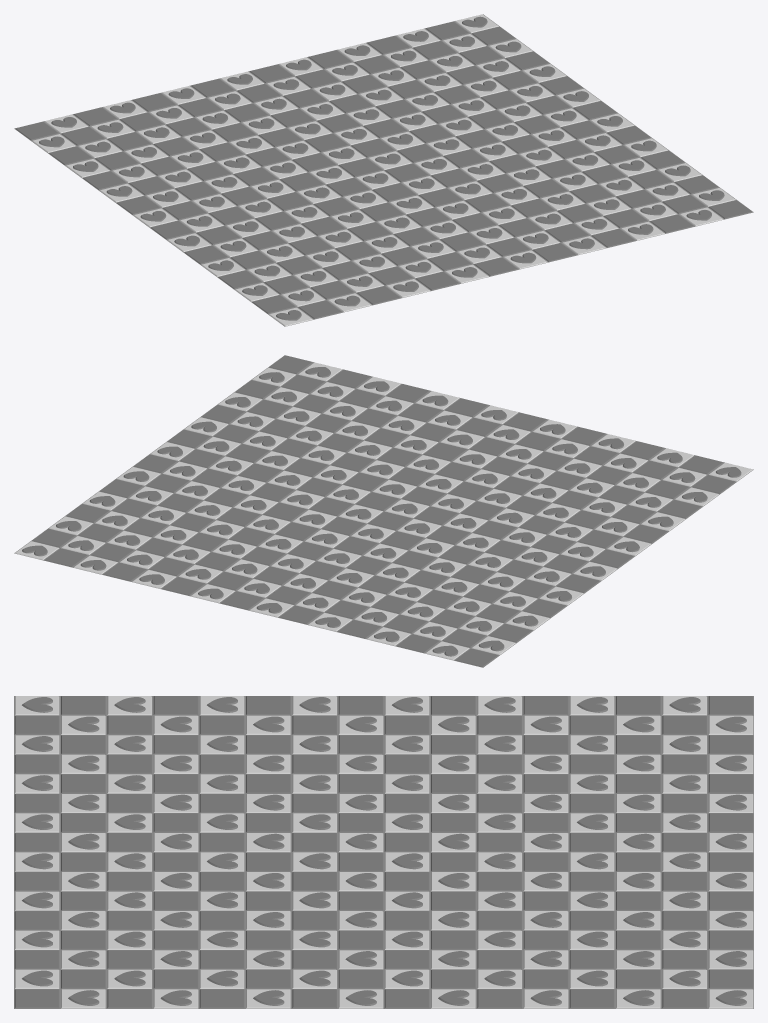
Rendered from BleedingHearts.fbx.
3 renders of one model, top to bottom at view 1: azimuth 30°, elevation 25°; view 2: azimuth 150°, elevation 25°; view 3: azimuth 270°, elevation 25°, orthographic. The views are drawn at different scales.
Visible parts, largest first — view 1: BleedingHearts; view 2: BleedingHearts; view 3: BleedingHearts.
Part boxes in pixels (x1,y1,x2,y2): BleedingHearts: [14, 14, 753, 326]; BleedingHearts: [14, 355, 753, 667]; BleedingHearts: [14, 696, 753, 1008].
Size of the model in its own units: 3200 by 9.02 by 3200.
